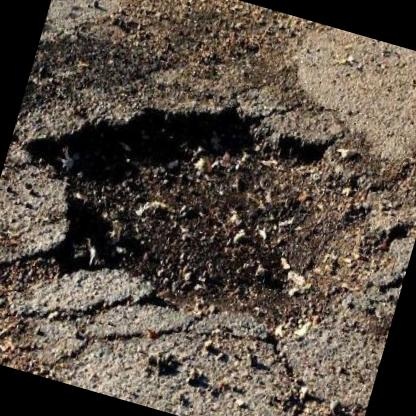pothole: (0, 51, 416, 367)
